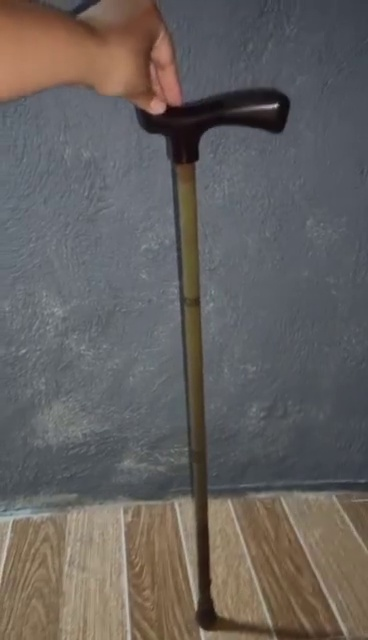cane: (136, 90, 287, 629)
hand: (54, 1, 184, 118)
